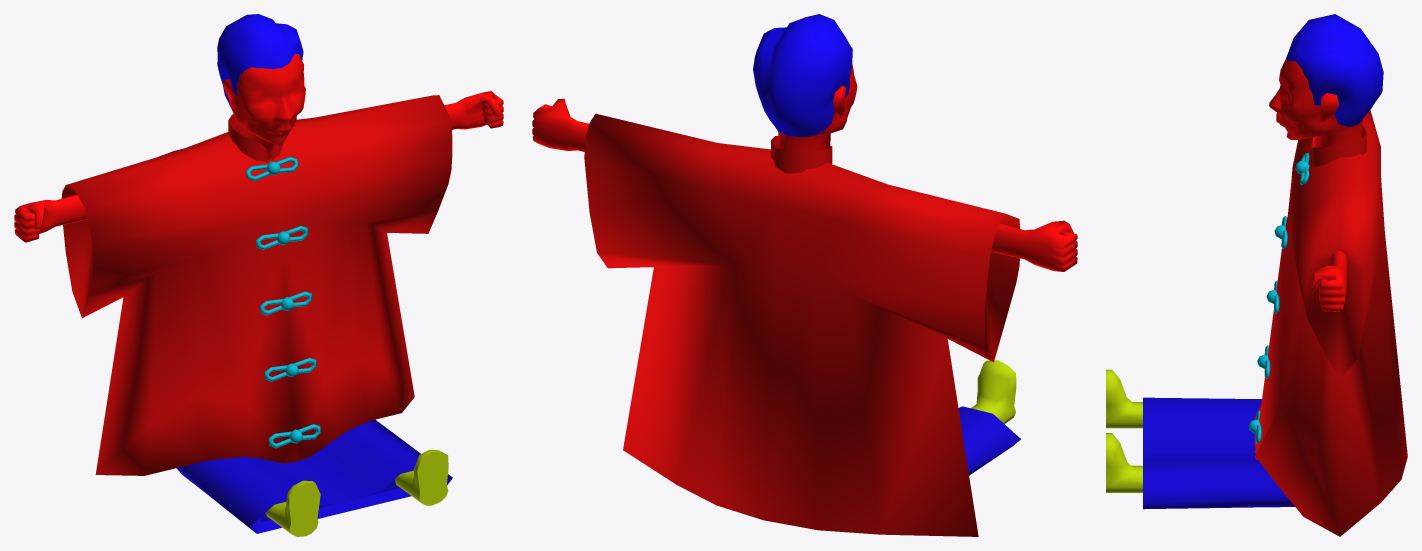
The model's file is glove_puppet02.FBX.
The picture shows the model from 3 angles, left to right: view 1: azimuth 30°, elevation 25°; view 2: azimuth 150°, elevation 25°; view 3: azimuth 270°, elevation 25°; orthographic projection. The views are drawn at different scales.
Parts seen in each view (by area): view 1: puppet_cloth, puppet_body; view 2: puppet_cloth, puppet_body; view 3: puppet_cloth, puppet_body.
Boxes of the visible parts, x1=… form: puppet_cloth: x1=61, y1=95, x2=452, y2=536; puppet_body: x1=14, y1=14, x2=503, y2=242; puppet_cloth: x1=584, y1=113, x2=1020, y2=536; puppet_body: x1=532, y1=14, x2=1077, y2=271; puppet_cloth: x1=1106, y1=110, x2=1407, y2=536; puppet_body: x1=1269, y1=14, x2=1383, y2=311.
Size of the model in its own units: 2.41 by 1.28 by 2.06.
